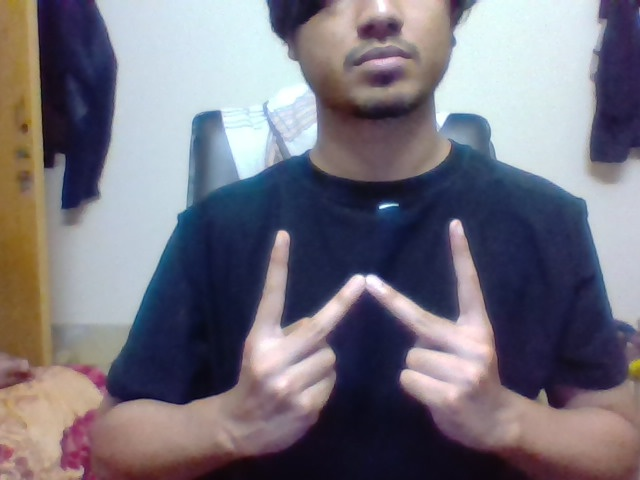W: (256, 216, 487, 342)
